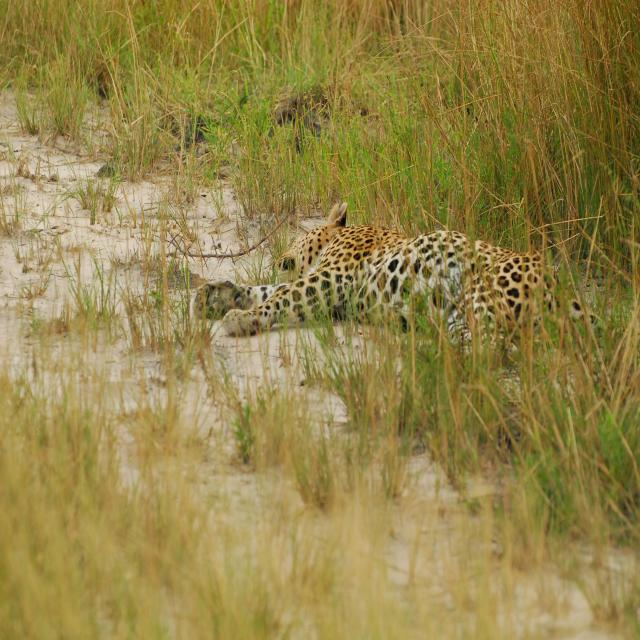Leopard: (188, 192, 587, 396)
